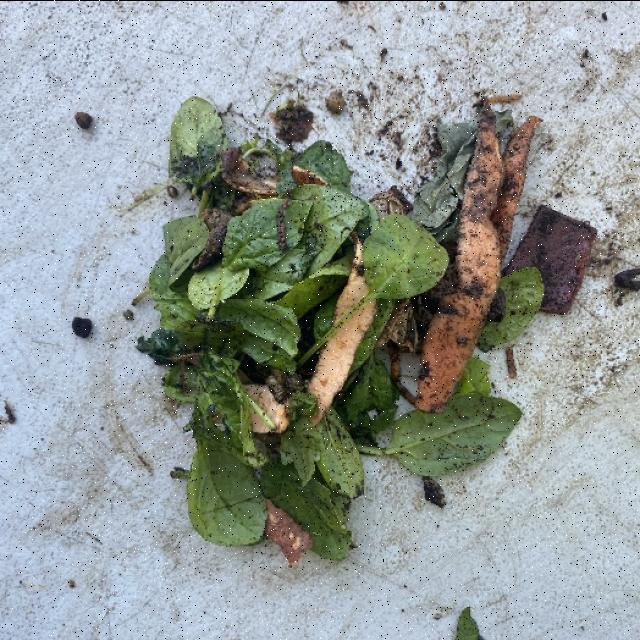organik: (160, 156, 398, 508), (392, 110, 572, 386), (383, 390, 517, 471), (369, 206, 452, 302)
